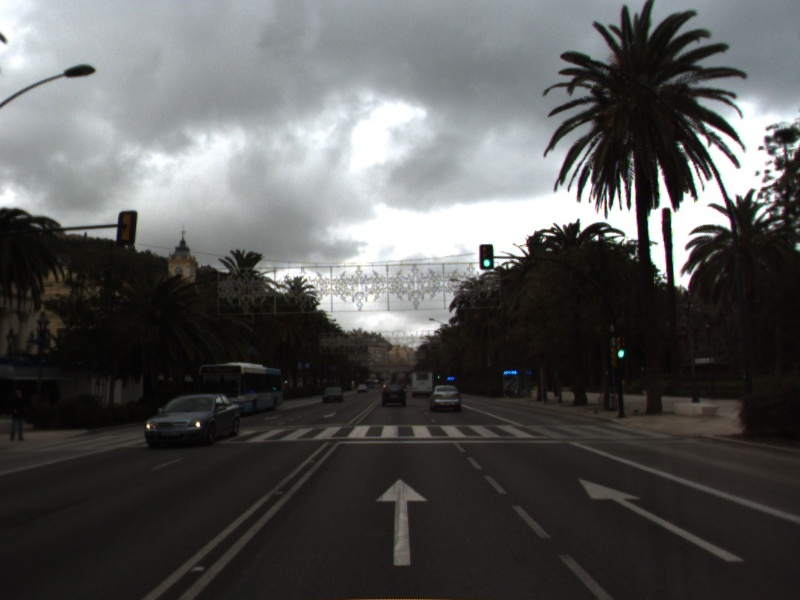STRAIGHT: (575, 476, 748, 565), (373, 476, 431, 568)
